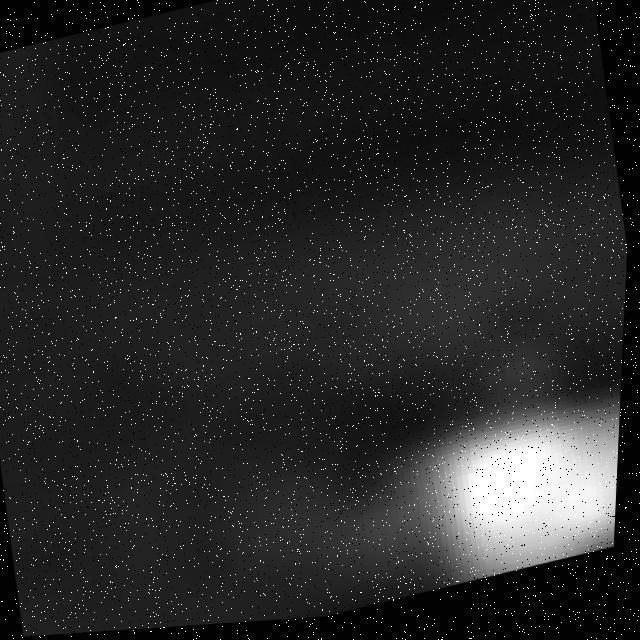person: (349, 391, 626, 613)
